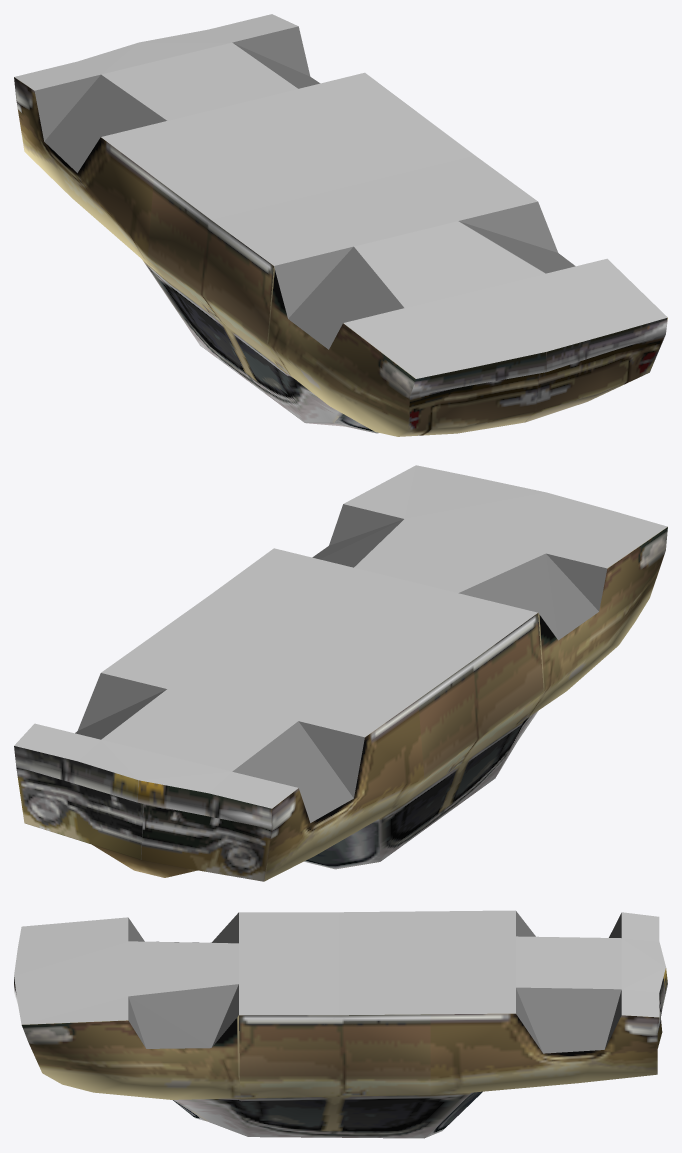
Rendered from HAVANA_model3_clean.obj.
The picture shows the model from 3 angles, top to bottom: view 1: azimuth 30°, elevation 25°; view 2: azimuth 150°, elevation 25°; view 3: azimuth 270°, elevation 25°; orthographic projection. The views are drawn at different scales.
Parts seen in each view (by area): view 1: HAVANA_model3_clean; view 2: HAVANA_model3_clean; view 3: HAVANA_model3_clean.
Boxes of the visible parts, x1,y1,x2,y2 form: HAVANA_model3_clean: [14, 14, 667, 436]; HAVANA_model3_clean: [14, 465, 667, 881]; HAVANA_model3_clean: [14, 910, 667, 1138].
Size of the model in its own units: 270 by 172 by 692.
